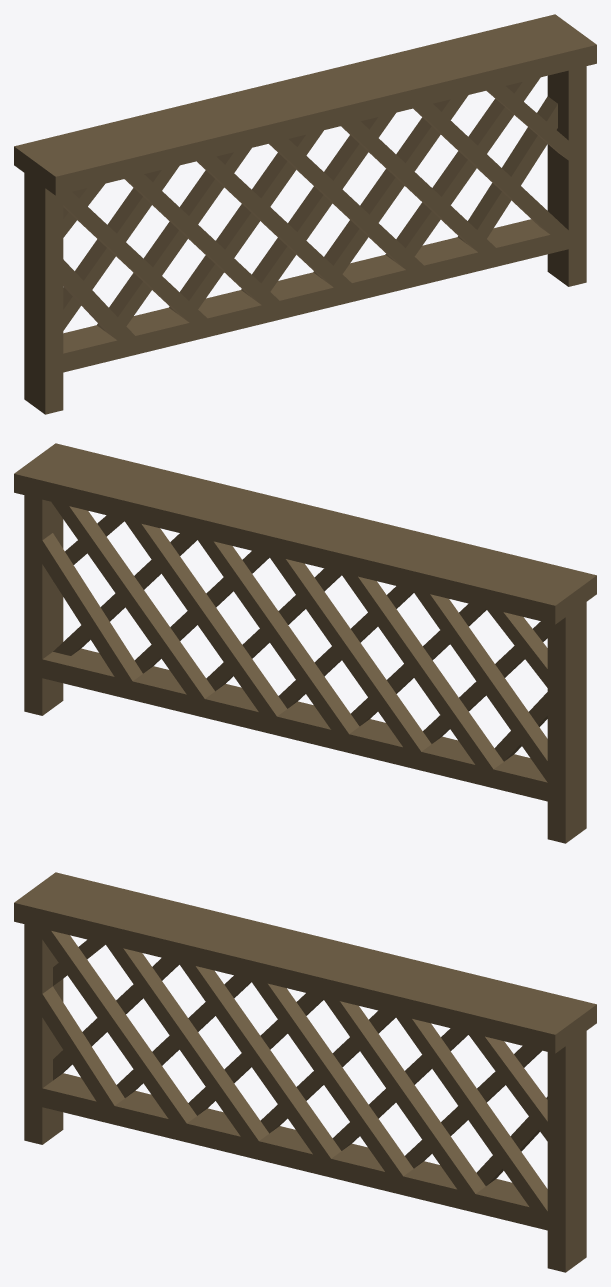
Rendered from greek_fence_2.fbx.
The picture shows the model from 3 angles, top to bottom: view 1: azimuth 30°, elevation 25°; view 2: azimuth 150°, elevation 25°; view 3: azimuth 330°, elevation 25°; orthographic projection.
Visible parts, largest first — view 1: Cube.048; view 2: Cube.048; view 3: Cube.048.
Boxes of the visible parts, left/top/right/bottom form: Cube.048: left=14, top=14, right=596, bottom=414; Cube.048: left=14, top=443, right=596, bottom=843; Cube.048: left=14, top=872, right=596, bottom=1272.
Bounding box in the file's own units: 300 × 130 × 40.
